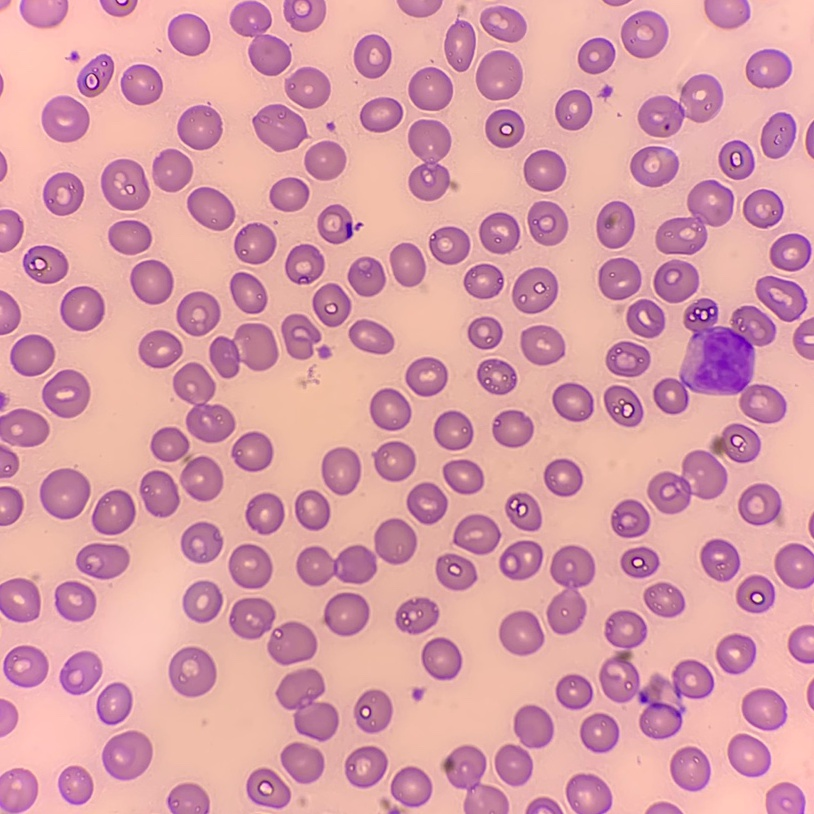RBC: (653, 298, 786, 422), (599, 650, 713, 739), (648, 424, 760, 513), (297, 519, 416, 586), (656, 180, 733, 254), (151, 427, 222, 501), (638, 74, 722, 136), (173, 363, 234, 442), (441, 745, 508, 813), (230, 1, 290, 75), (277, 668, 338, 740), (547, 546, 594, 634), (209, 323, 277, 377), (408, 120, 450, 200), (40, 468, 90, 518), (253, 104, 306, 151), (102, 731, 152, 780), (101, 159, 149, 210), (169, 647, 216, 696), (381, 767, 431, 813), (756, 276, 806, 321), (42, 370, 89, 417), (476, 51, 522, 99), (621, 11, 667, 58), (42, 96, 88, 141), (268, 621, 316, 664), (512, 268, 557, 313), (187, 187, 234, 230), (60, 286, 104, 330), (499, 611, 543, 655), (323, 593, 369, 635), (76, 543, 129, 579), (178, 105, 221, 149), (130, 260, 173, 304), (92, 490, 135, 534), (229, 544, 272, 588), (229, 598, 275, 639), (631, 146, 678, 186), (409, 67, 452, 110), (177, 292, 220, 335), (654, 260, 698, 302), (742, 688, 786, 730), (285, 67, 330, 108), (738, 484, 783, 525), (453, 514, 499, 554), (3, 646, 47, 687), (140, 471, 179, 517), (0, 409, 48, 446), (728, 734, 770, 776), (345, 746, 387, 788), (60, 651, 101, 694), (281, 742, 324, 783), (10, 335, 54, 375), (0, 578, 40, 622), (246, 768, 290, 808), (566, 774, 611, 813), (322, 448, 360, 494), (597, 201, 634, 248), (598, 258, 640, 299), (670, 747, 710, 790), (528, 201, 567, 245), (520, 326, 564, 365), (746, 49, 791, 87), (282, 314, 320, 359), (168, 14, 209, 55), (524, 150, 565, 191), (152, 149, 192, 191), (370, 388, 410, 430), (407, 482, 447, 524), (499, 540, 542, 579), (514, 705, 553, 748), (23, 245, 67, 283), (775, 544, 813, 588), (354, 689, 392, 733), (0, 768, 37, 813), (121, 64, 162, 104), (43, 173, 83, 214), (234, 223, 275, 263), (374, 441, 415, 481), (181, 522, 222, 562), (700, 539, 739, 581), (422, 637, 461, 679), (313, 283, 351, 326), (479, 213, 519, 253), (55, 581, 95, 621), (406, 357, 447, 396), (183, 581, 222, 622), (354, 35, 391, 78), (481, 6, 525, 42), (761, 112, 796, 157), (305, 141, 345, 180), (232, 432, 272, 471), (716, 634, 755, 674), (552, 383, 593, 421), (605, 610, 646, 648), (139, 330, 181, 367), (396, 597, 438, 634), (444, 20, 475, 70), (285, 244, 324, 283), (604, 386, 642, 426), (246, 493, 283, 534), (495, 744, 532, 785), (390, 243, 425, 286), (580, 713, 618, 752), (743, 190, 783, 227), (429, 227, 469, 264), (492, 410, 532, 447), (436, 553, 476, 590), (77, 55, 113, 96), (360, 97, 402, 132), (108, 220, 151, 254), (606, 342, 649, 376), (349, 320, 393, 353), (485, 109, 523, 147), (434, 411, 472, 449), (770, 234, 810, 270), (230, 273, 266, 313), (97, 683, 132, 724), (544, 459, 582, 496), (611, 500, 649, 537), (736, 575, 774, 612), (555, 90, 591, 129), (348, 257, 384, 296), (644, 582, 684, 617), (627, 300, 664, 337), (317, 205, 353, 243), (477, 359, 516, 394), (443, 460, 483, 494), (295, 490, 329, 530), (719, 141, 754, 179), (464, 264, 503, 298), (506, 493, 541, 530), (58, 766, 92, 804), (704, 0, 750, 28), (284, 0, 325, 31), (20, 0, 67, 27), (578, 38, 614, 73), (556, 674, 592, 709), (167, 783, 209, 813), (270, 178, 308, 211), (766, 783, 804, 813), (621, 547, 658, 577), (467, 317, 502, 348), (0, 210, 23, 252), (788, 625, 813, 663), (0, 487, 23, 525), (0, 292, 20, 334), (793, 319, 813, 359), (398, 0, 441, 17), (0, 700, 17, 735), (0, 445, 18, 477), (101, 0, 136, 16), (526, 797, 560, 813), (647, 802, 679, 813), (806, 125, 813, 155), (0, 156, 6, 177), (807, 684, 813, 705), (319, 347, 330, 357), (412, 688, 422, 698), (607, 0, 624, 5), (0, 393, 6, 407), (602, 87, 610, 96), (0, 0, 8, 8), (809, 520, 813, 531)
